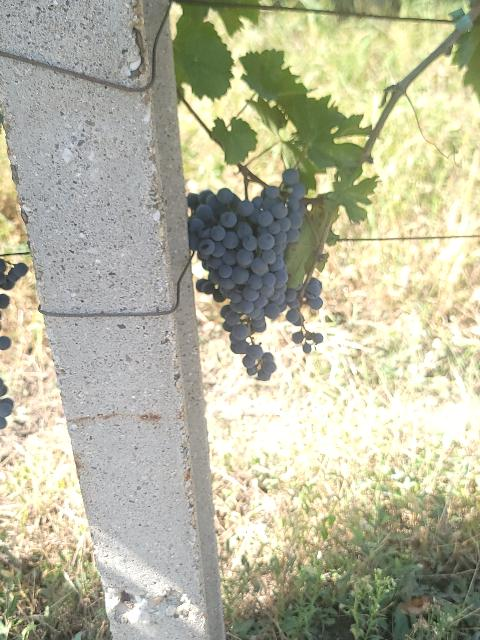grapes: (188, 169, 306, 380)
